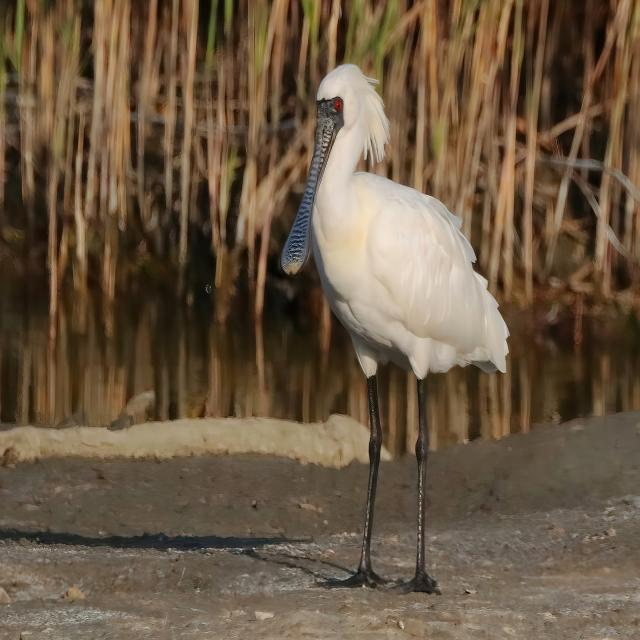Black-faced spoonbill: (282, 65, 508, 592)
